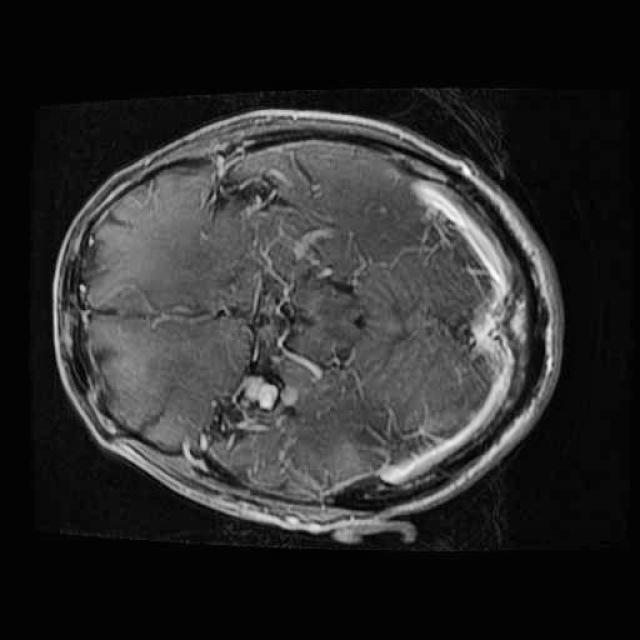Non-Tumor: (229, 366, 304, 434)
